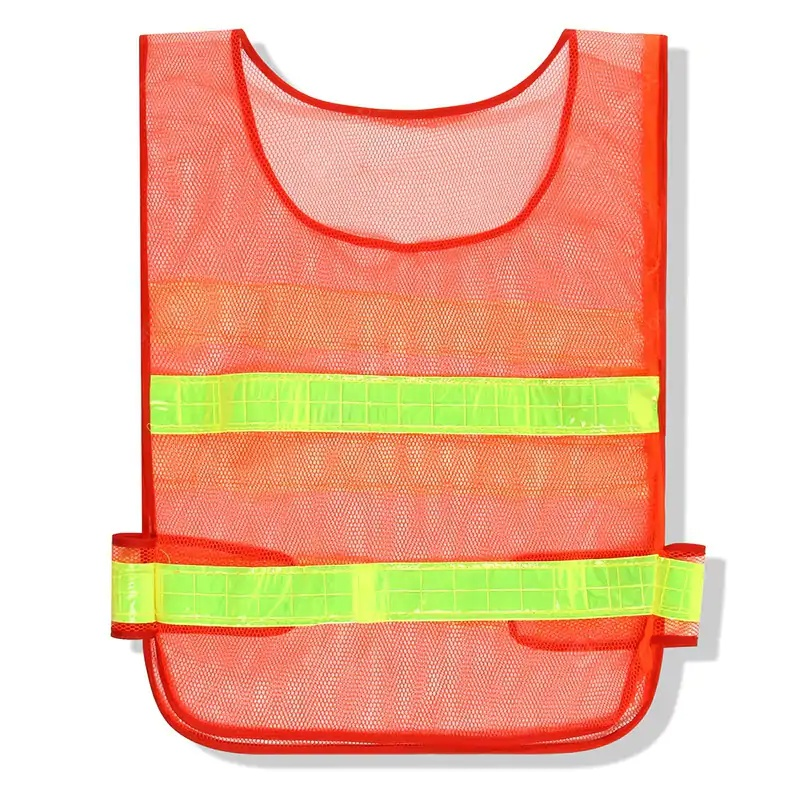safety vest: (123, 24, 713, 776)
